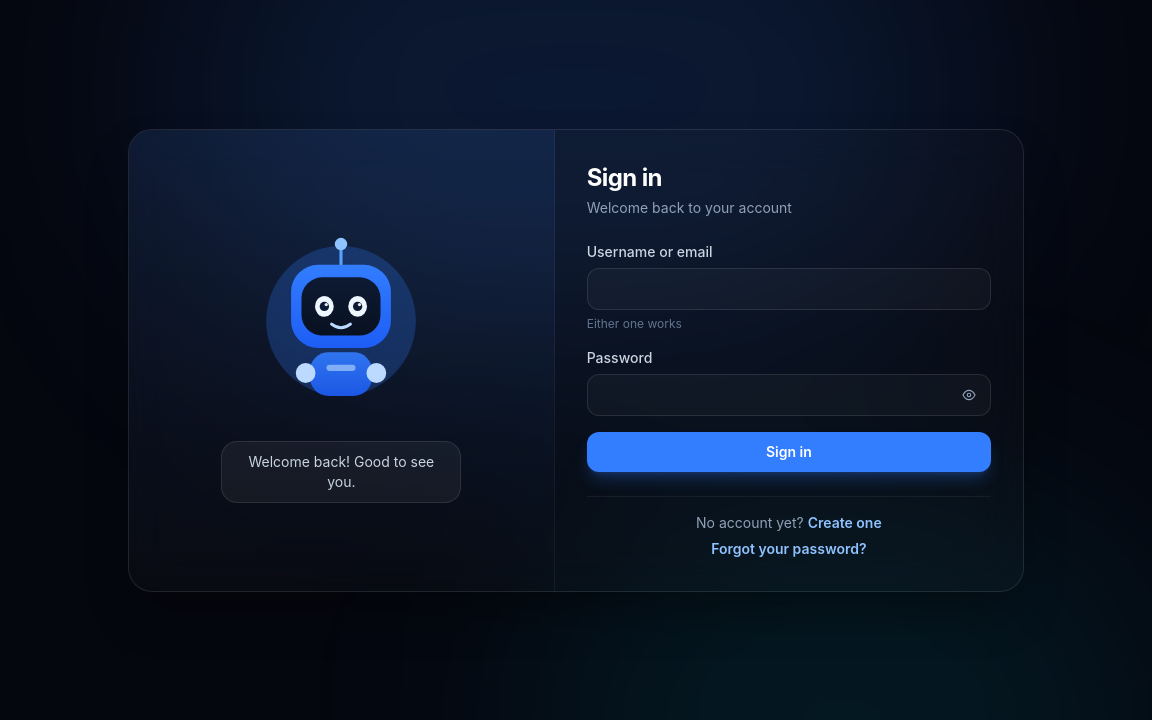
Test case: sign-in handoff › reports a wrong password instead of failing silently
Type "testuser" into the field labelled "Username or email". click: (789, 288)
box: top-left (587, 268), bottom-right (991, 310)
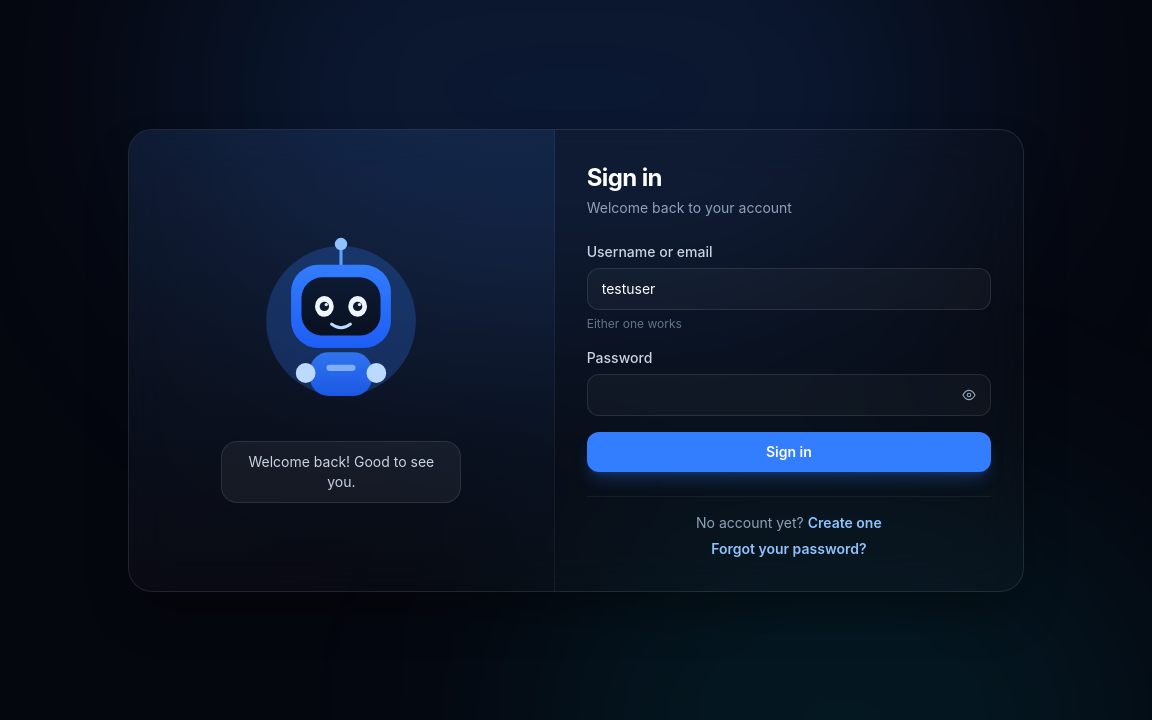
Type "correct-horse" into the password field labelled "Password". click: (789, 394)
box: top-left (587, 374), bottom-right (991, 416)
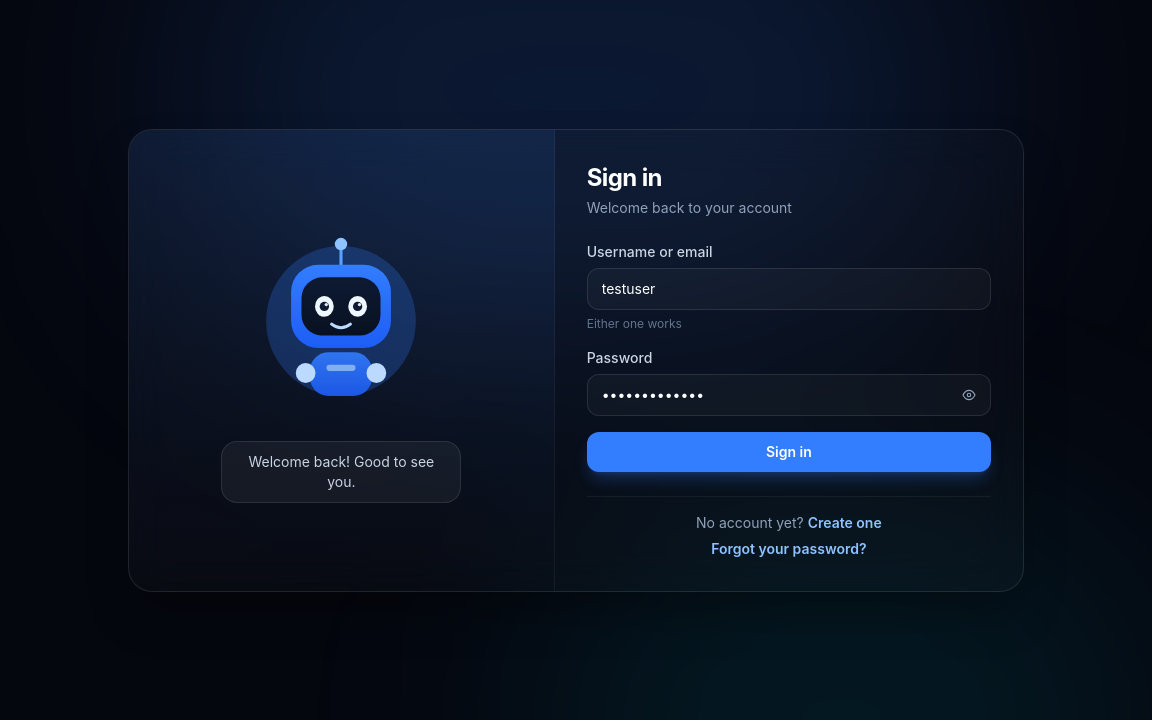
Click the button "Sign in". click: (789, 452)
box: top-left (587, 432), bottom-right (991, 472)
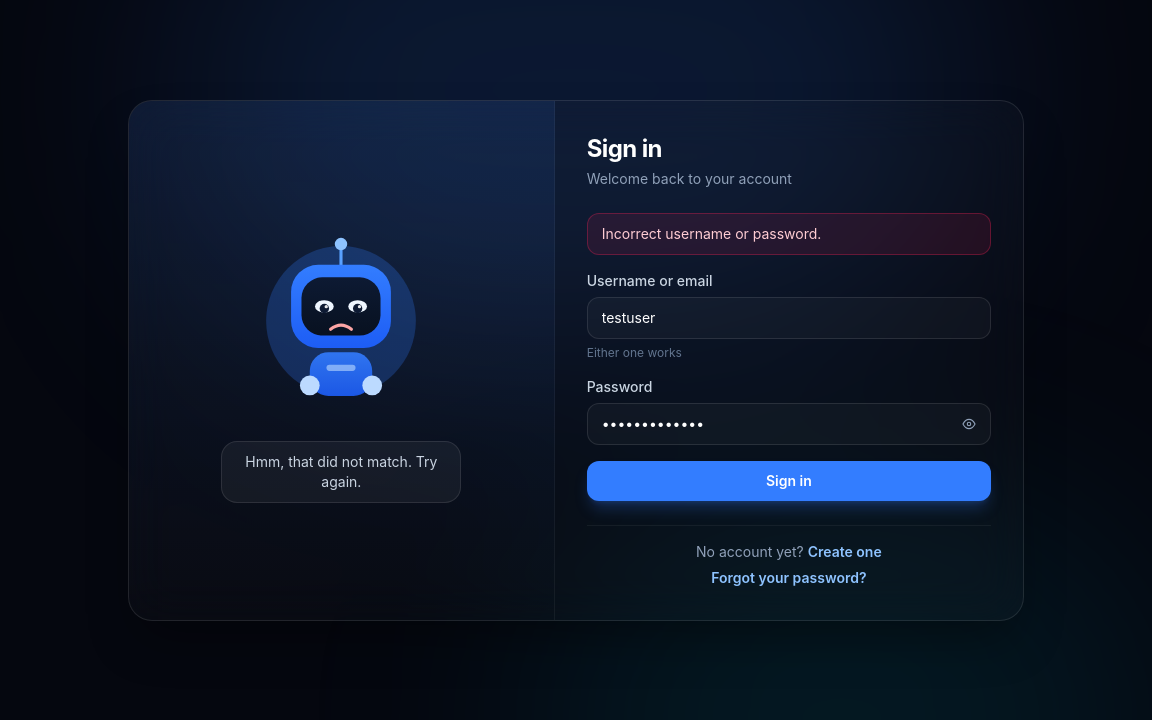
Expected: the text "User dashboard" is not shown
Expected: the message "Incorrect username or password." is shown, top-left (587, 212), bottom-right (991, 254)
